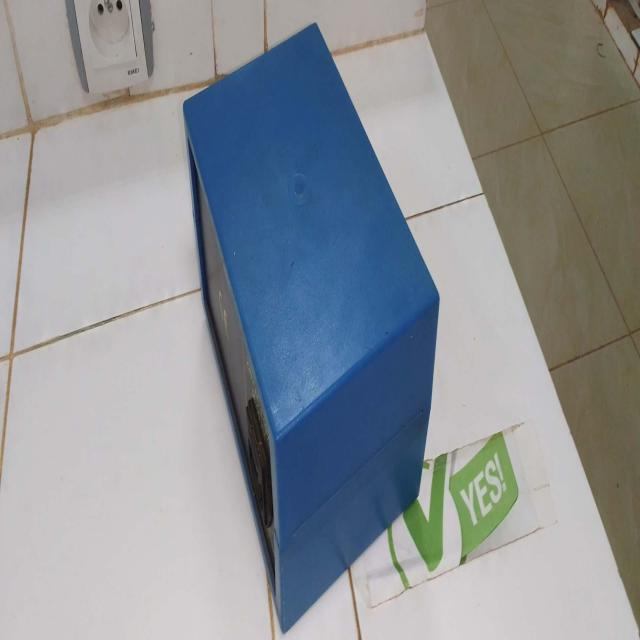Analog DC Power Supply: (180, 20, 448, 613)
